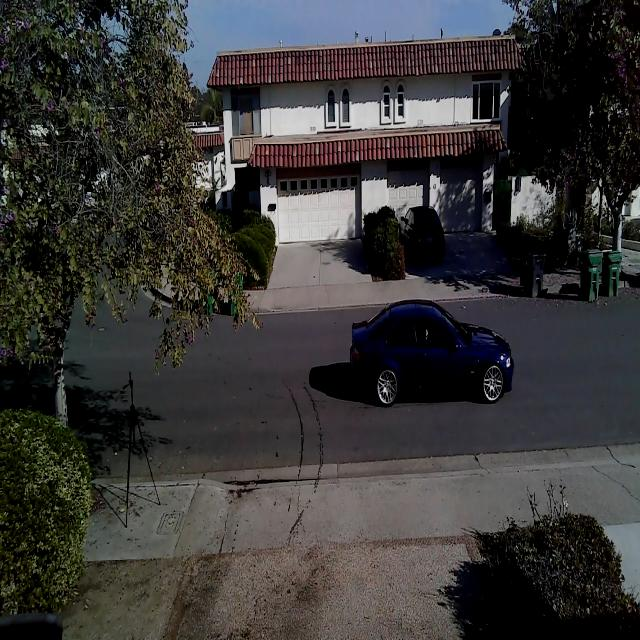Carbeetle: (342, 294, 520, 411)
Civilian: (397, 206, 445, 264)
